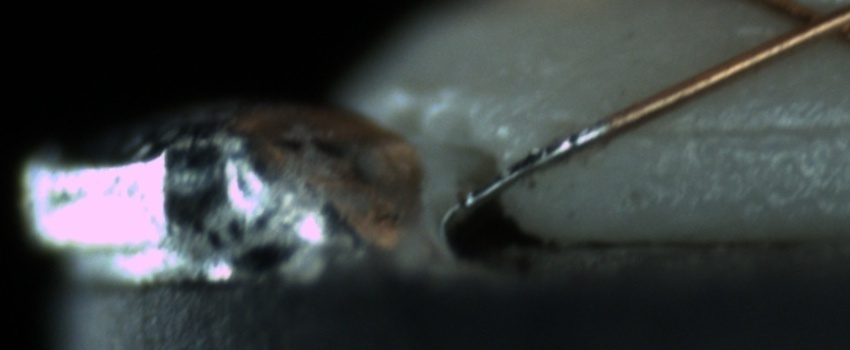CL: (762, 0, 850, 57)
DL: (613, 97, 849, 161)
TS: (460, 116, 603, 210)
TTCW: (456, 93, 661, 215)
